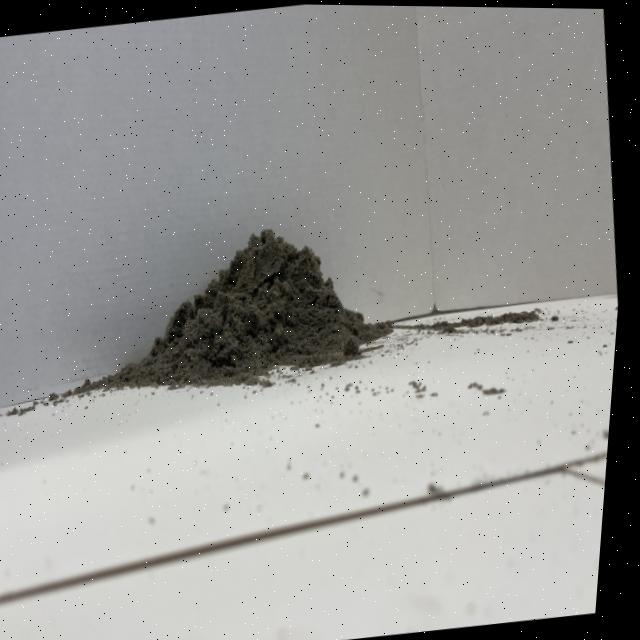sand: (84, 190, 416, 422)
